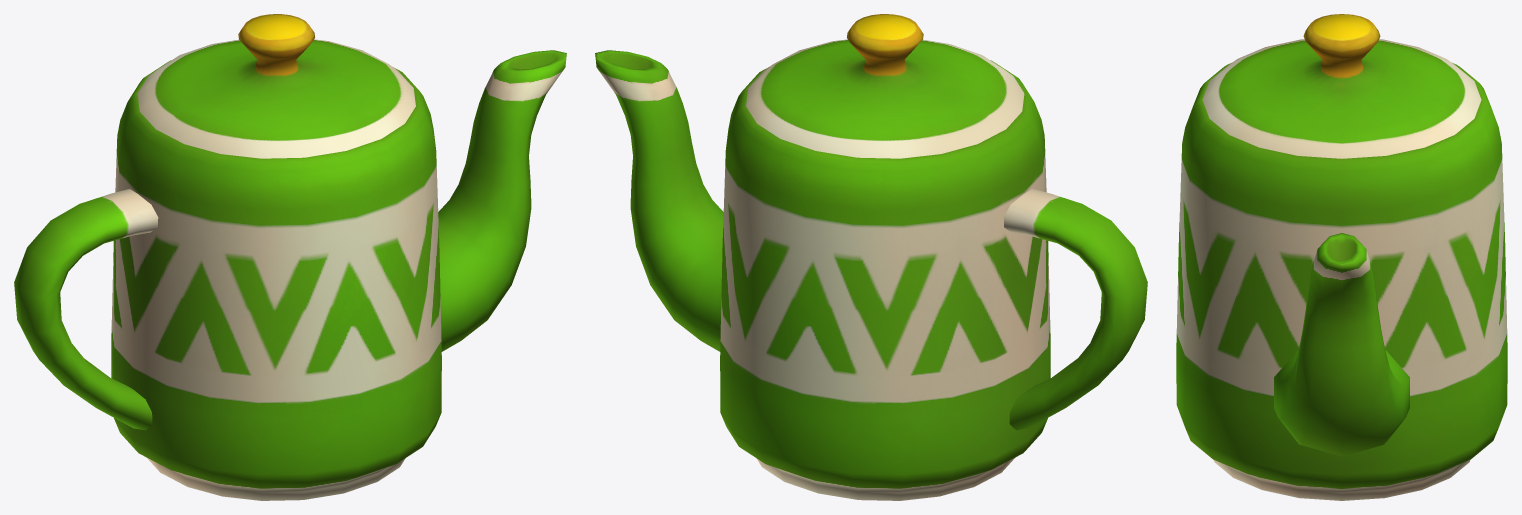
File: ChaHu.FBX
3 views of the same model, side by side, from view 1: azimuth 30°, elevation 25°; view 2: azimuth 150°, elevation 25°; view 3: azimuth 270°, elevation 25° (orthographic).
Parts seen in each view (by area): view 1: ChaHu; view 2: ChaHu; view 3: ChaHu.
Boxes of the visible parts, bbox=[...] form: ChaHu: bbox=[14, 14, 566, 500]; ChaHu: bbox=[595, 14, 1147, 500]; ChaHu: bbox=[1176, 14, 1507, 500].
Bounding box in the file's own units: 152 × 111 × 79.62.
Materials: 1 (1 with a texture image).
